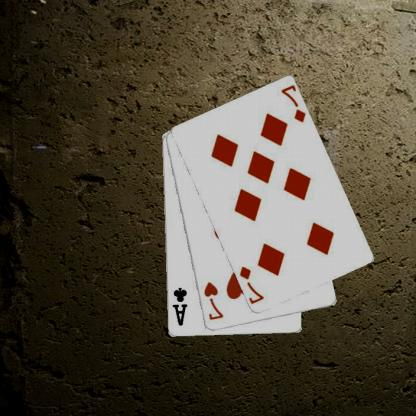7D: (238, 263, 267, 305), (280, 83, 308, 125)
7H: (203, 280, 226, 322)
AC: (171, 285, 190, 327)
